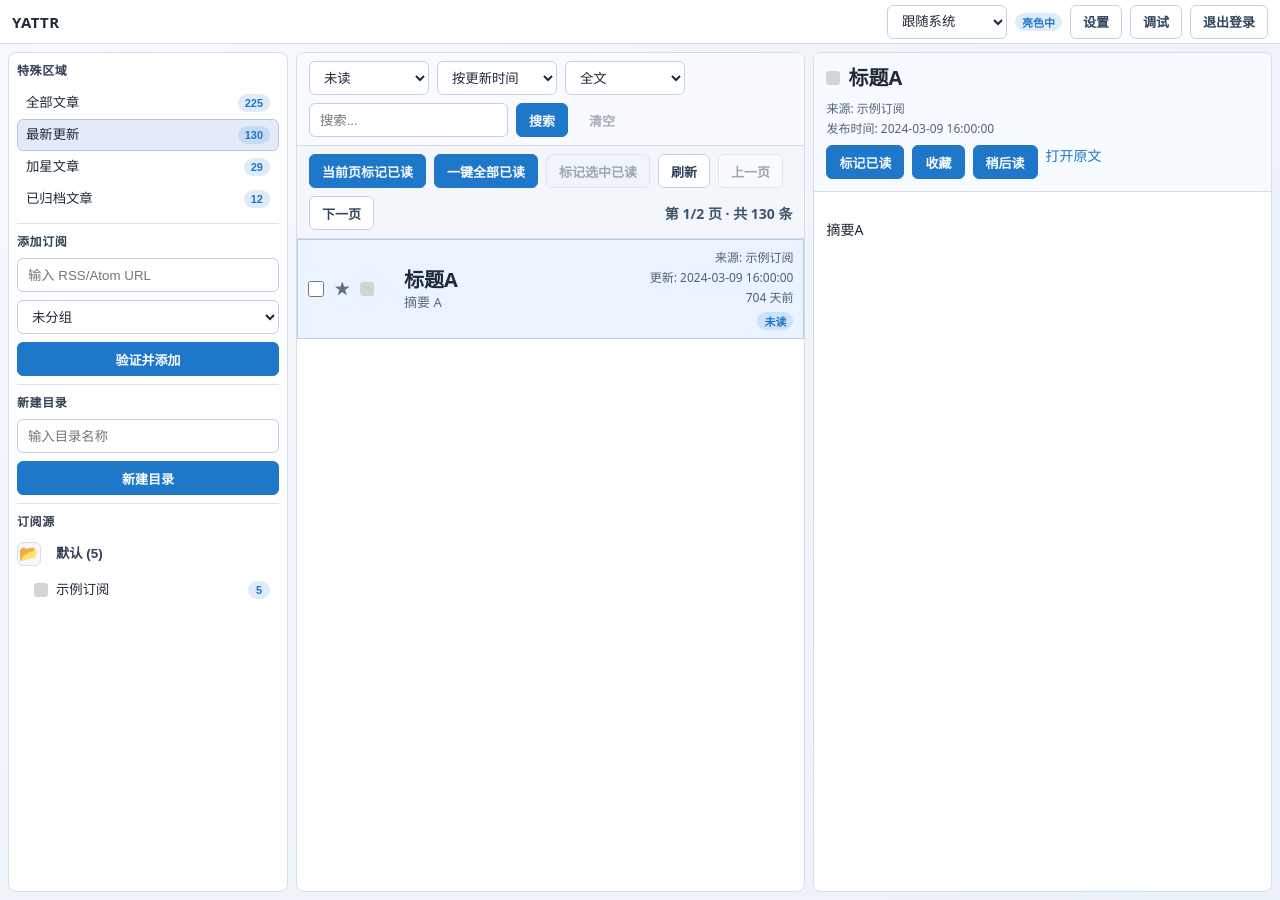
Test case: supports collapsing and expanding folder tree
Expected: the button "示例订阅 5" is shown, [17,574,279,606]
Click the button named "折叠目录 默认": click(29, 554) [17,542,41,566]
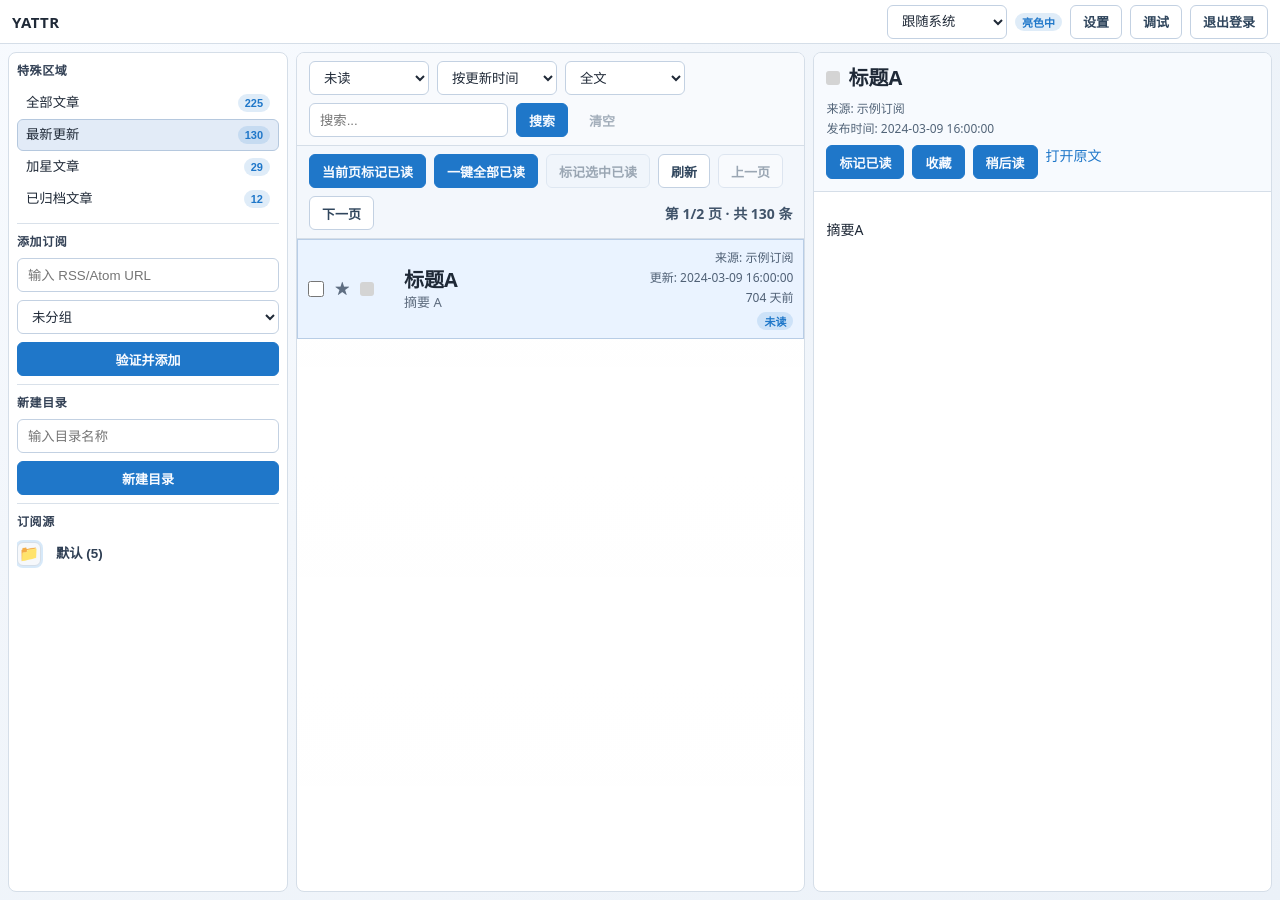
Click the button named "展开目录 默认": click(29, 554) [17,542,41,566]
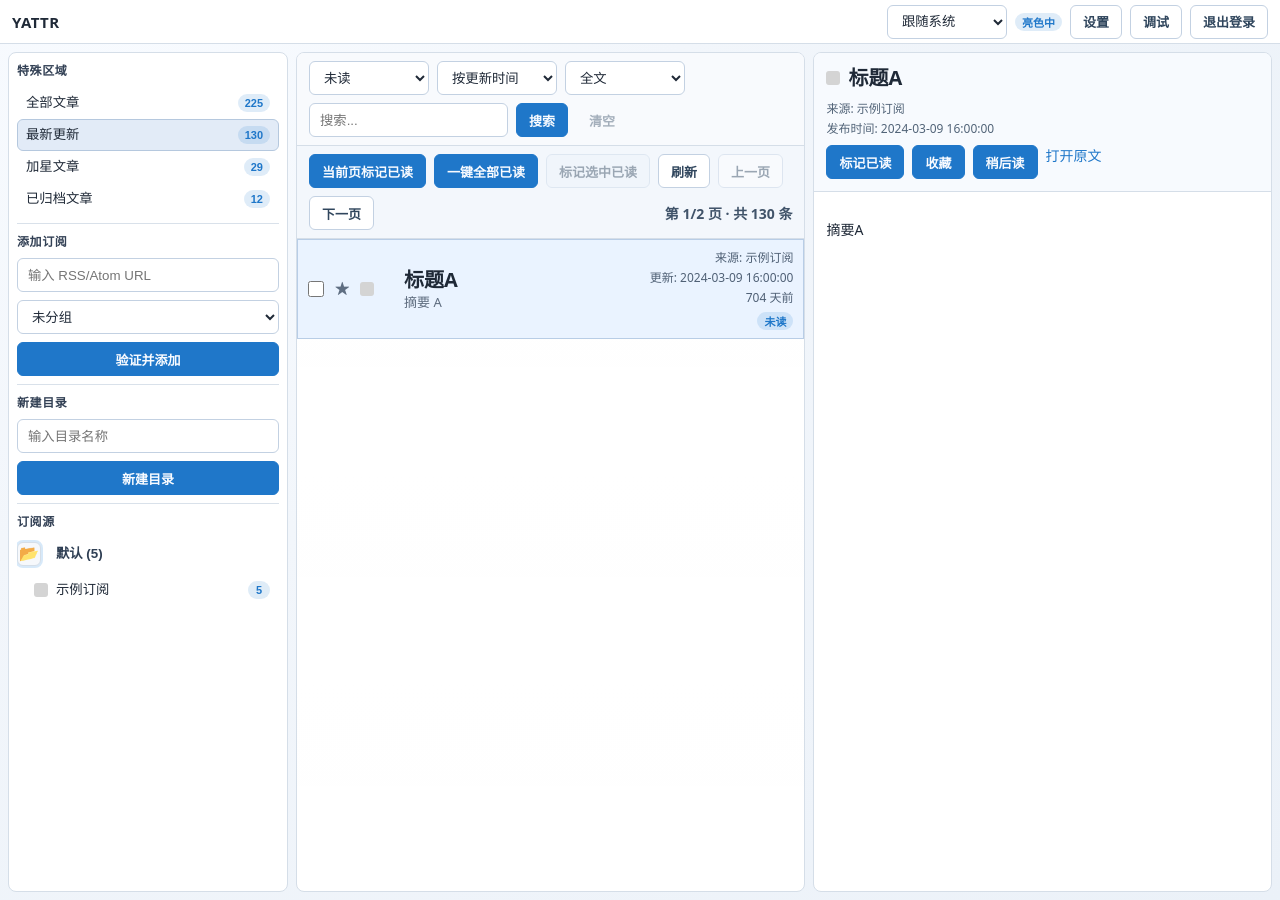
Result: the button "示例订阅 5" is shown at [17,574,279,606]
